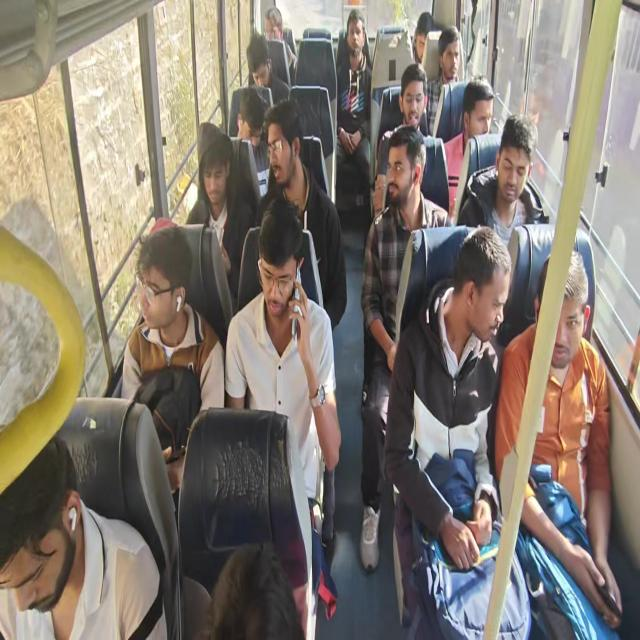person: (2, 446, 87, 603), (134, 230, 192, 340), (250, 224, 300, 322), (537, 275, 580, 369), (462, 252, 506, 340), (493, 123, 534, 210), (460, 74, 500, 161), (380, 142, 426, 214), (261, 122, 300, 192), (201, 123, 235, 200), (247, 34, 276, 99), (240, 98, 266, 154), (266, 13, 294, 58), (340, 17, 366, 64), (404, 76, 426, 130), (437, 38, 461, 83), (407, 29, 430, 68)
